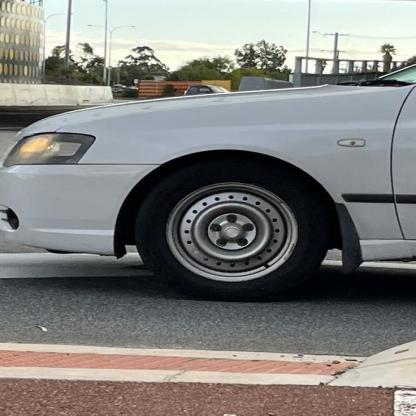Tire: (136, 159, 330, 301)
